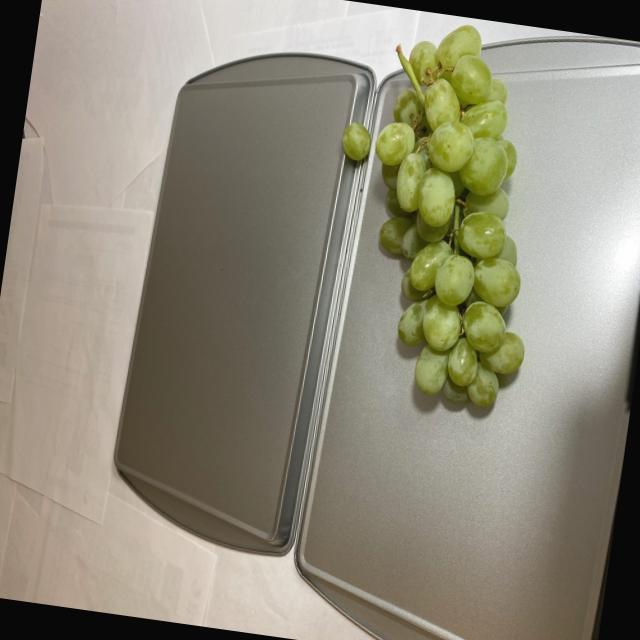grapes: (304, 22, 560, 424)
